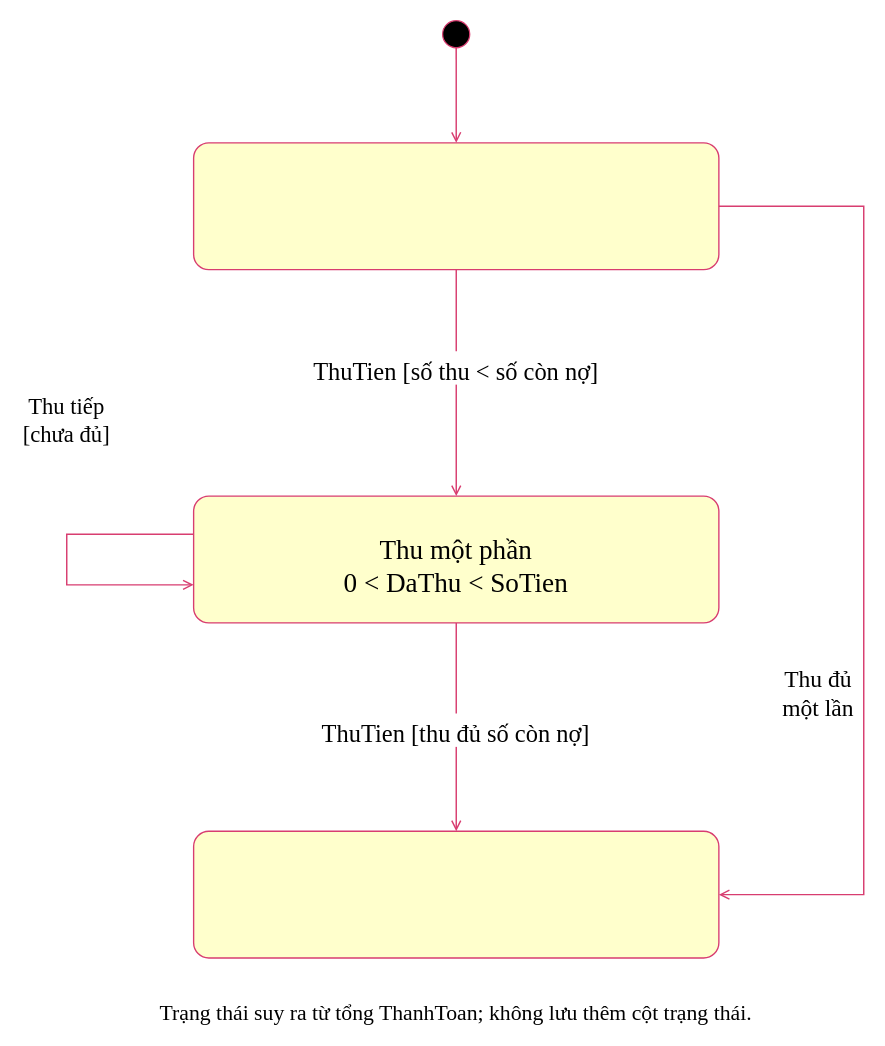
The diagram is 885 pixels wide and 1046 high, and some of its shapes have lost their labels. Here are the shapes that lost their labels. From the top down, the box of each, then its label:
(192, 142, 719, 270): Chưa thu DaThu = 0
(192, 830, 719, 958): Đã thu đủ DaThu = SoTien
